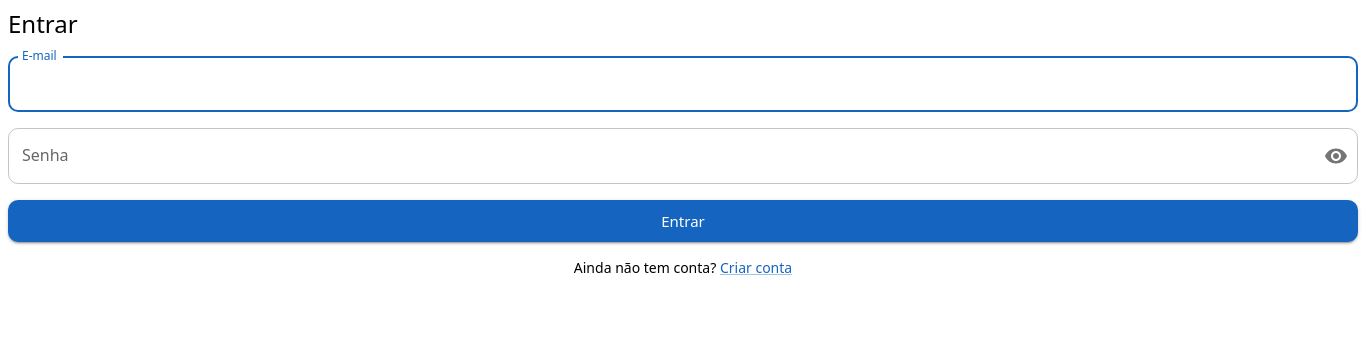
Login: validação e erros do servidor › servidor fora do ar: mostra a mensagem de rede e permite tentar de novo
In the field labelled "E-mail": [683, 84] box [8, 56, 1358, 112], type "ana@example.com"
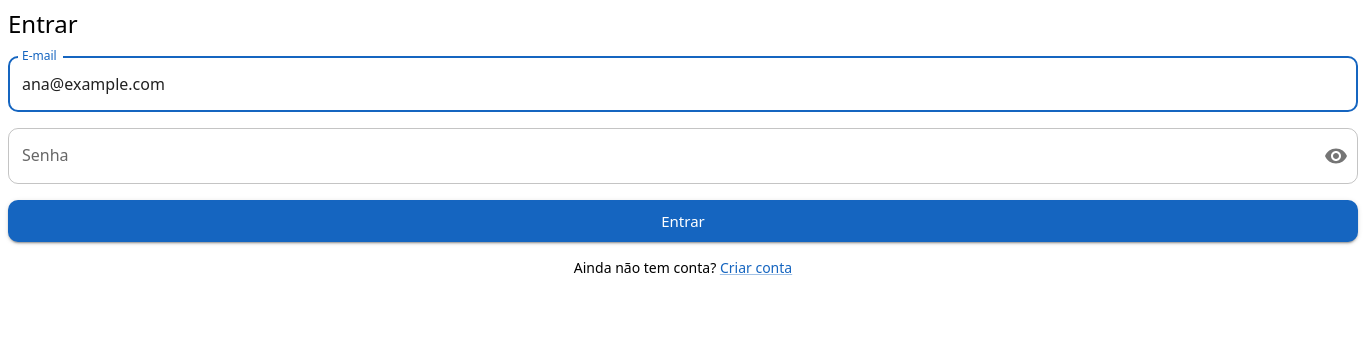
In the password field labelled "Senha": [658, 156] box [8, 128, 1308, 184], type "senha da ana"
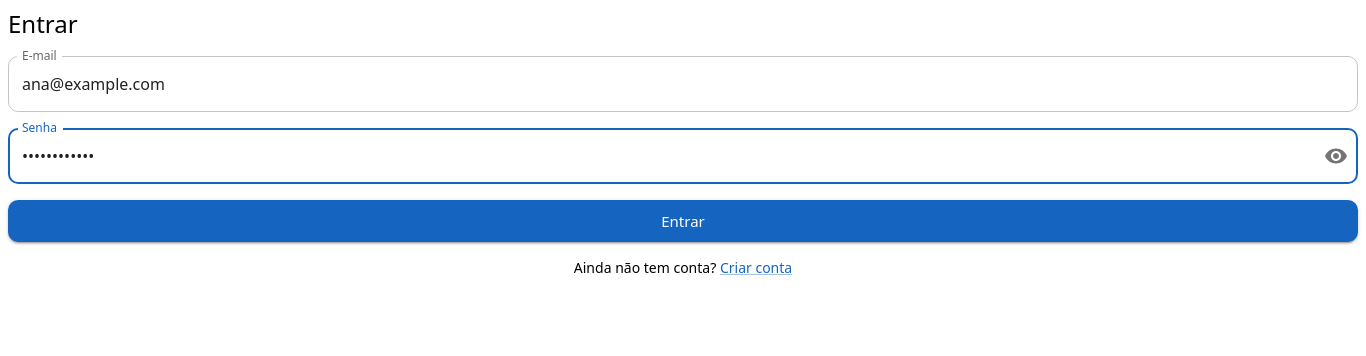
Click the button "Entrar": [683, 221] box [8, 200, 1358, 242]
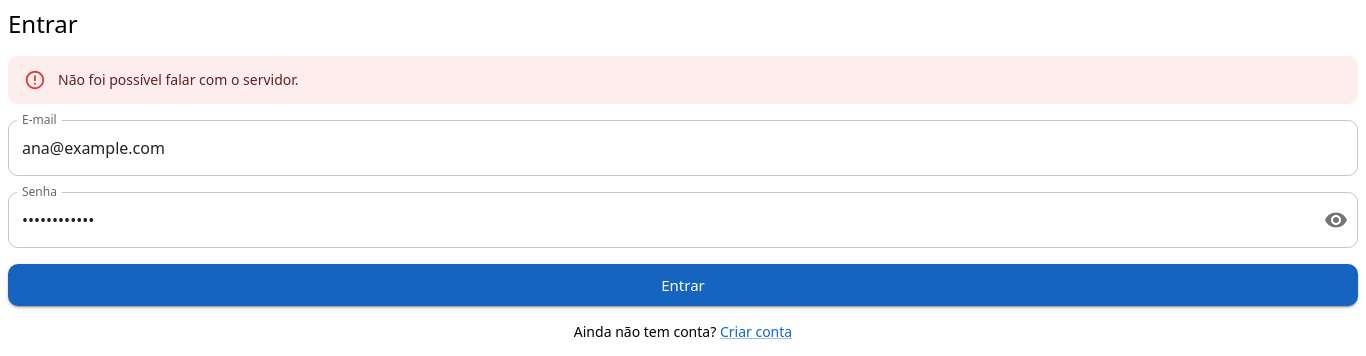
Expected: the button "Entrar" is enabled, [8, 264, 1358, 306]
Expected: the text "Não foi possível falar com o servidor." is shown, [58, 70, 299, 89]
